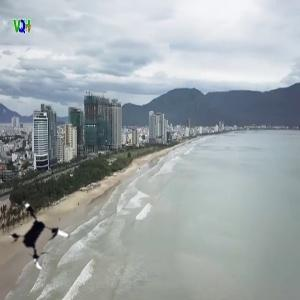drone: (6, 202, 77, 273)
